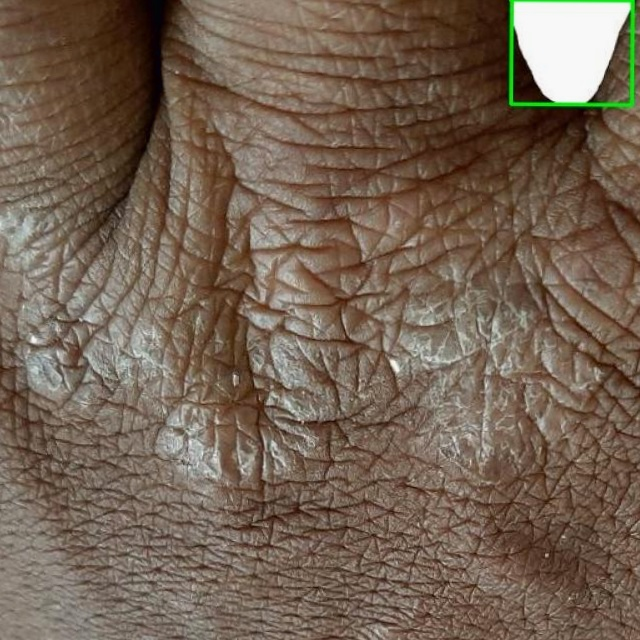Contact Dermatitis: (510, 0, 632, 105)
